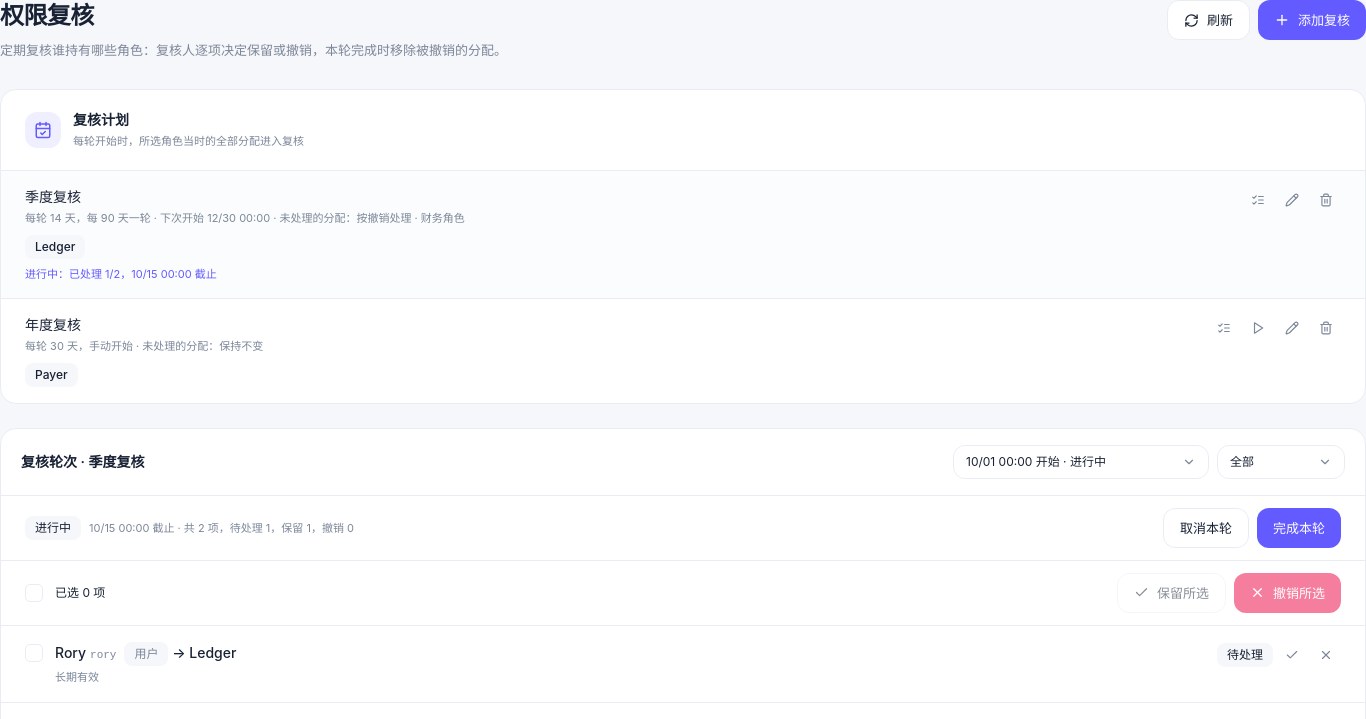
it: access reviews view › shows the reviews and the open round of the first
This screenshot has width=1366, height=719.
expect the list item that starts with "季度复核" shows "每轮 14 天，每 90 天一轮": met, box [25,211,151,225]
expect the list item that starts with "季度复核" shows "未处理的分配：按撤销处理": met, box [270,211,412,225]
Click the dropdown labelled "10/01 00:00 开始 · 进行中" at coordinates (1081, 462), box [953,445,1209,479]
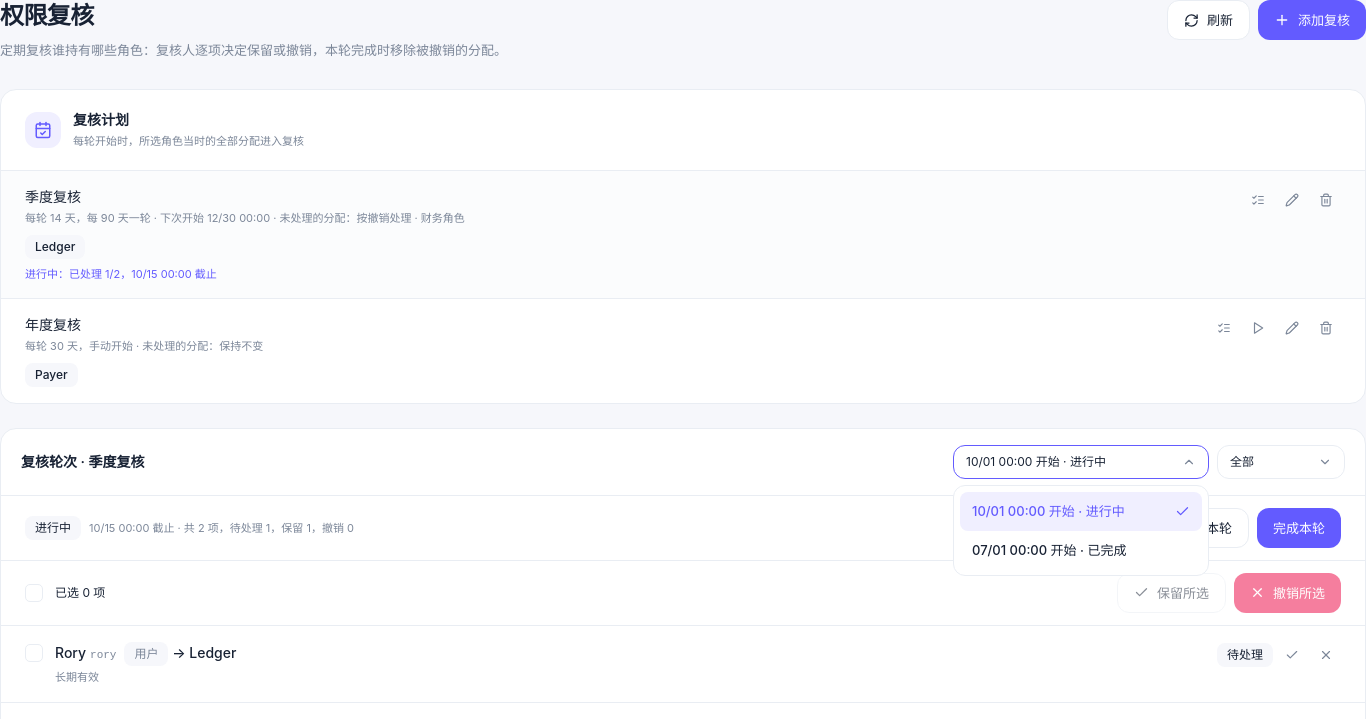
Click the option "07/01 00:00 开始 · 已完成" at coordinates (1049, 550), box [972,542,1126,558]
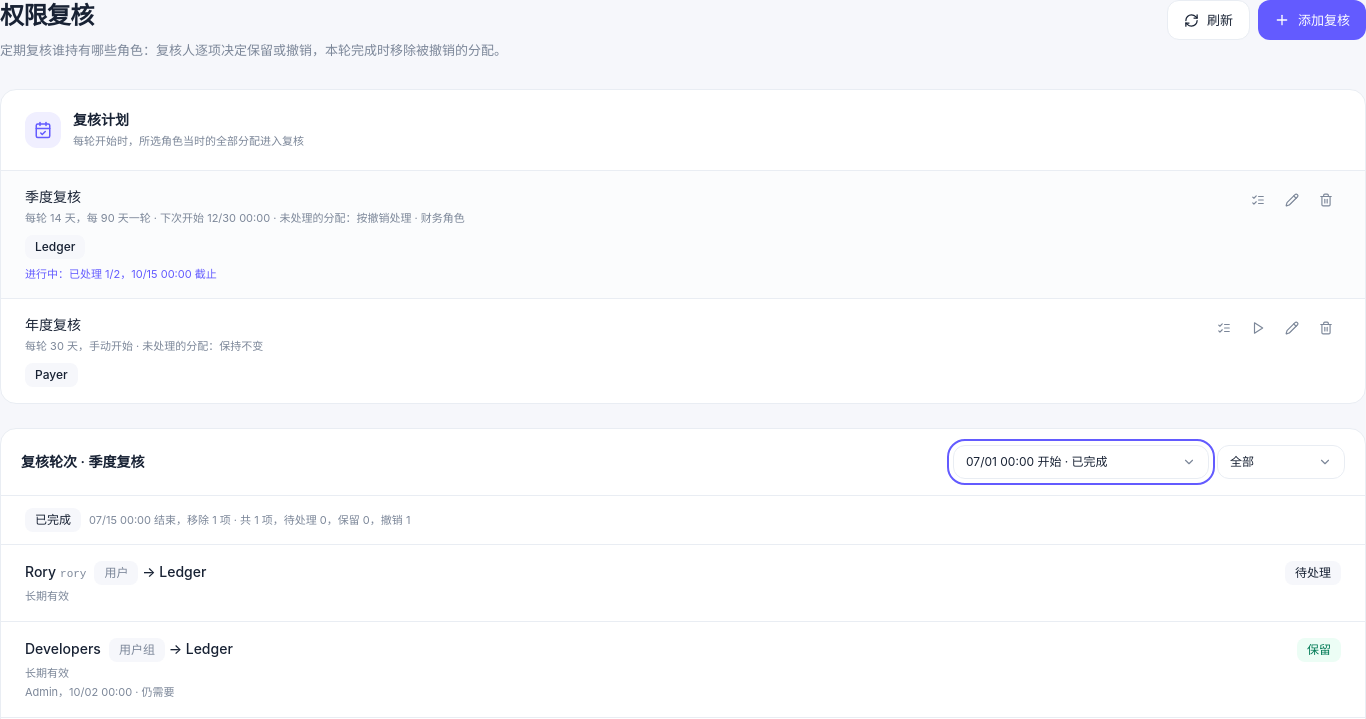
expect the element showing "已完成 07/15 00:00 结束，移除 1 项 · 共 1 项，待处理 0，保留 0，撤销 1" is shown: met, box [1,496,1365,545]
Note: Another review without rounds.
Click the button named "查看 年度复核" at coordinates (1224, 328), box [1209,315,1239,341]
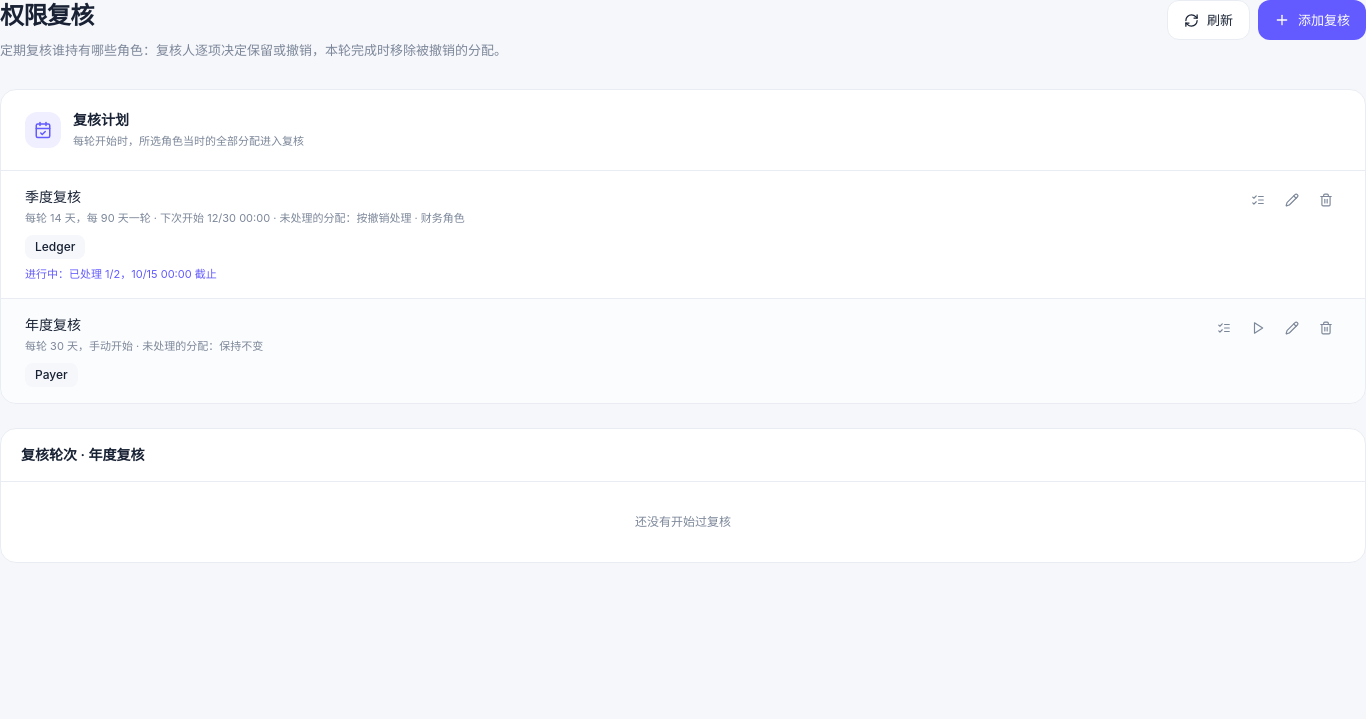
expect the text "还没有开始过复核" is shown: met, box [635,514,731,529]
